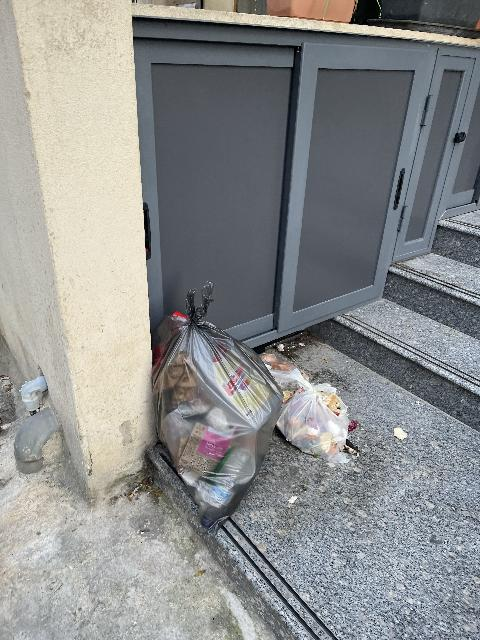Organic -White-: (277, 381, 348, 461)
Recyclable -Grey-: (152, 281, 283, 534)
